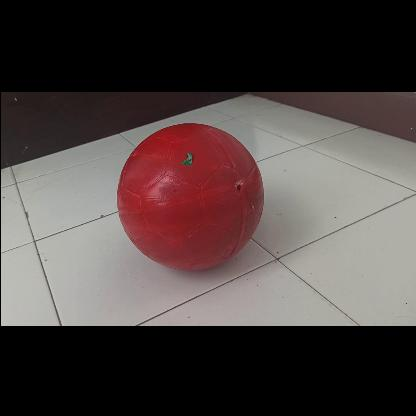red_ball: (118, 125, 264, 271)
